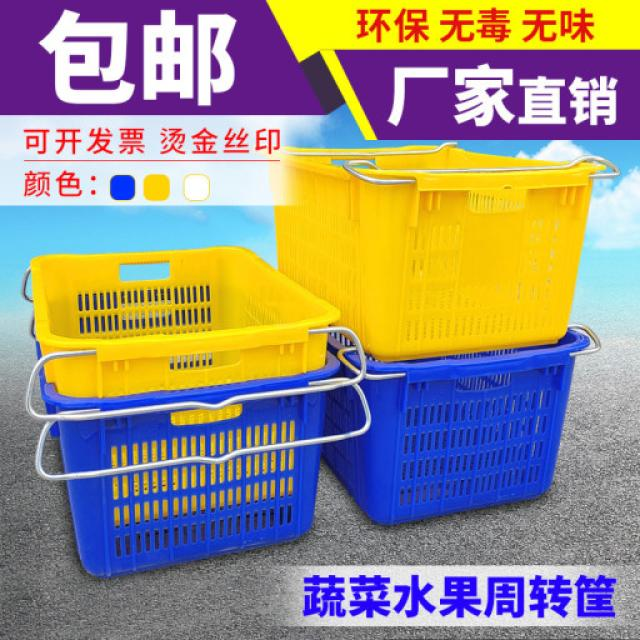basket: (273, 138, 622, 366), (309, 320, 616, 536), (30, 243, 344, 401), (68, 446, 335, 582), (57, 394, 331, 474), (40, 358, 342, 415)
